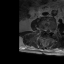CCS_normal: (47, 27, 49, 36)
LFS_normal: (51, 27, 53, 34)
LLS_normal: (49, 27, 51, 34)
RFS_stenosis: (43, 27, 45, 33)
RLS_normal: (45, 27, 47, 33)
